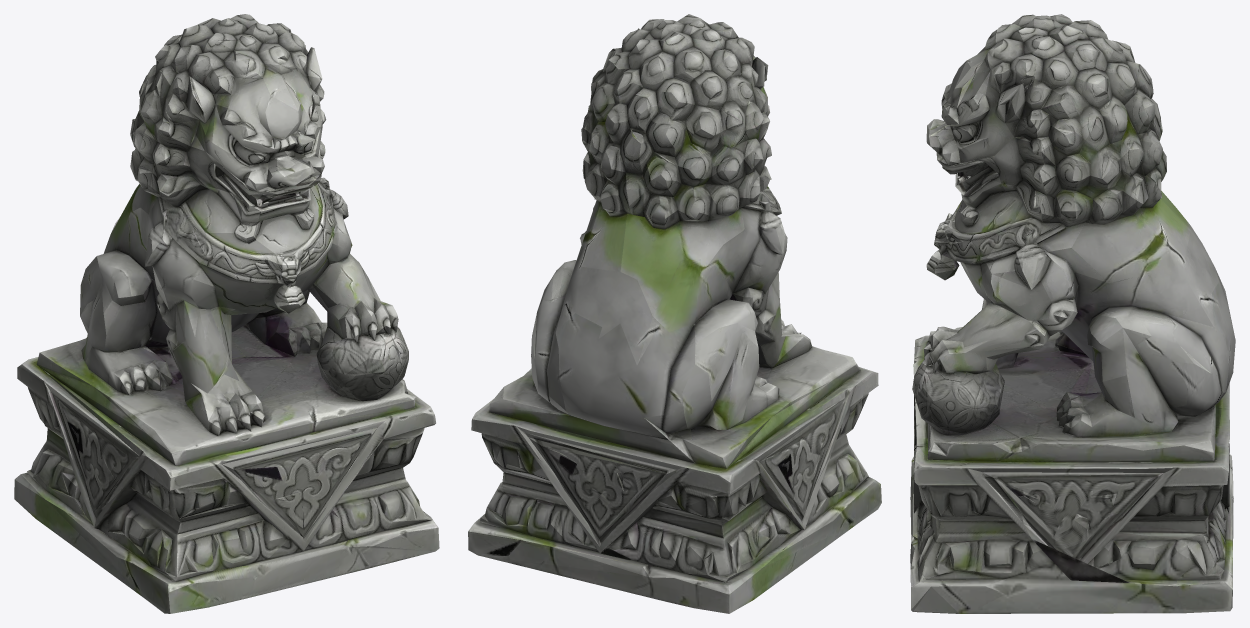
Rendered from statue.glb.
The picture shows the model from 3 angles, left to right: view 1: azimuth 30°, elevation 25°; view 2: azimuth 150°, elevation 25°; view 3: azimuth 270°, elevation 25°; orthographic projection. The views are drawn at different scales.
Bounding box in the file's own units: 1.06 × 1.9 × 1.08.
Materials: 1 (1 with a texture image).
